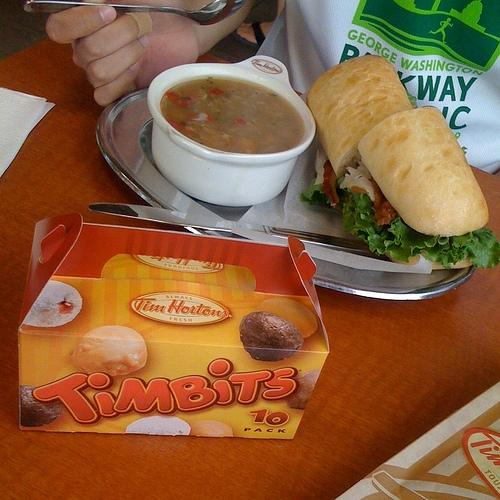lettuce: (300, 172, 499, 270)
